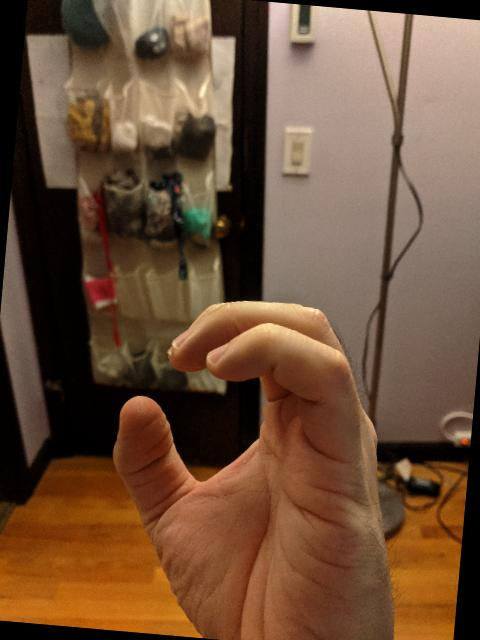C: (88, 281, 427, 640)
